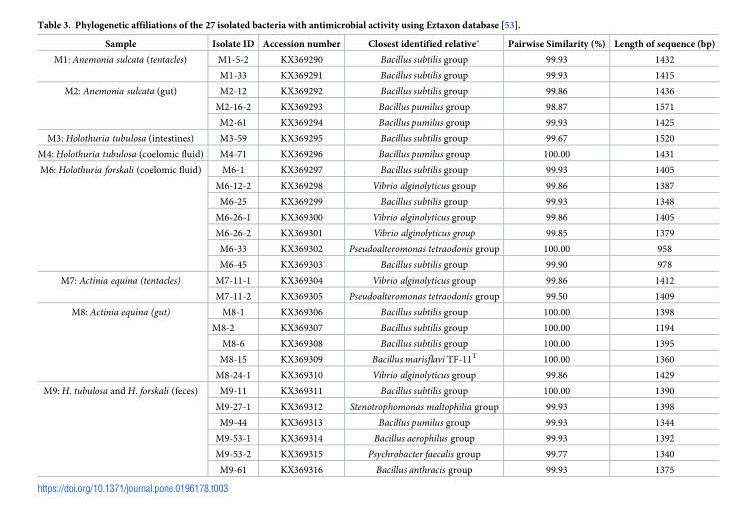table: (36, 36, 714, 475)
table column: (36, 36, 206, 475), (343, 36, 502, 475), (502, 36, 608, 475), (608, 36, 714, 475), (257, 36, 343, 475), (206, 36, 257, 475)
table column header: (36, 36, 714, 50)
table row: (36, 50, 714, 66), (36, 66, 714, 82), (36, 82, 714, 98), (36, 98, 714, 114), (36, 129, 714, 145), (36, 145, 714, 161), (36, 161, 714, 177), (36, 192, 714, 208), (36, 208, 714, 224), (36, 224, 714, 240), (36, 240, 714, 256), (36, 271, 714, 287), (36, 287, 714, 303), (36, 303, 714, 319), (36, 319, 714, 335), (36, 350, 714, 366), (36, 366, 714, 382), (36, 382, 714, 398), (36, 413, 714, 429), (36, 429, 714, 445), (36, 445, 714, 461), (36, 114, 714, 129), (36, 177, 714, 192), (36, 256, 714, 271), (36, 335, 714, 350), (36, 398, 714, 413), (36, 36, 714, 50), (36, 461, 714, 475)
table spanning cell: (36, 161, 206, 271), (36, 382, 206, 475), (36, 303, 206, 382), (36, 82, 206, 129), (36, 50, 206, 82), (36, 271, 206, 303)
